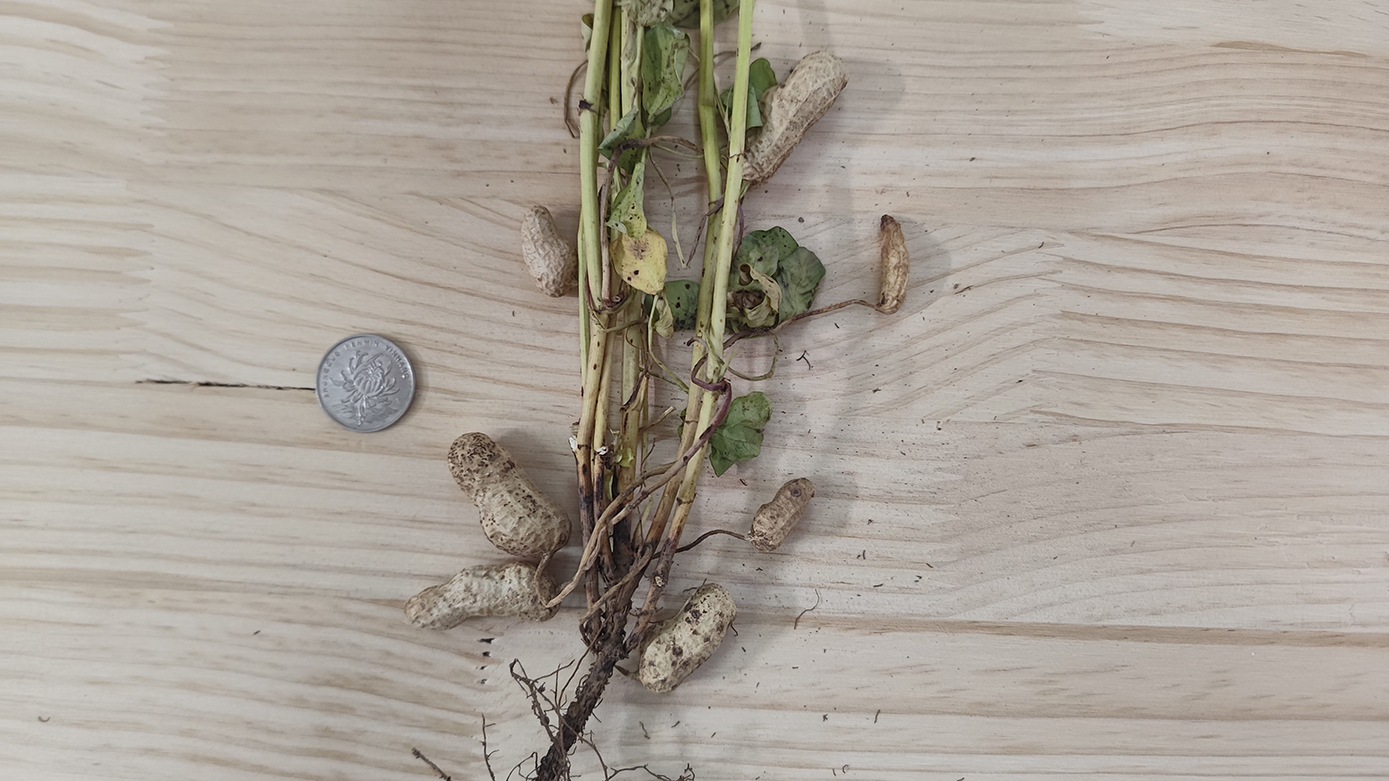h: (448, 432, 572, 560), (746, 50, 849, 185), (638, 582, 737, 695), (403, 564, 560, 630), (519, 205, 575, 298), (750, 477, 816, 551)
l: (878, 215, 910, 315)
